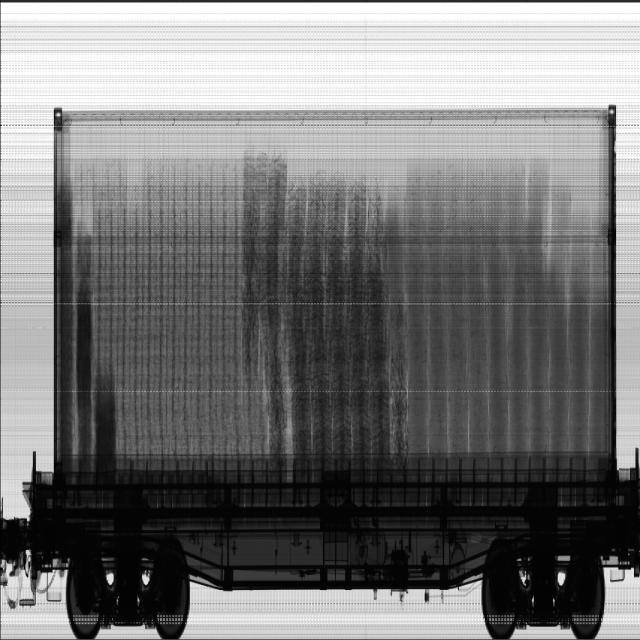shoes: (240, 152, 407, 456)
